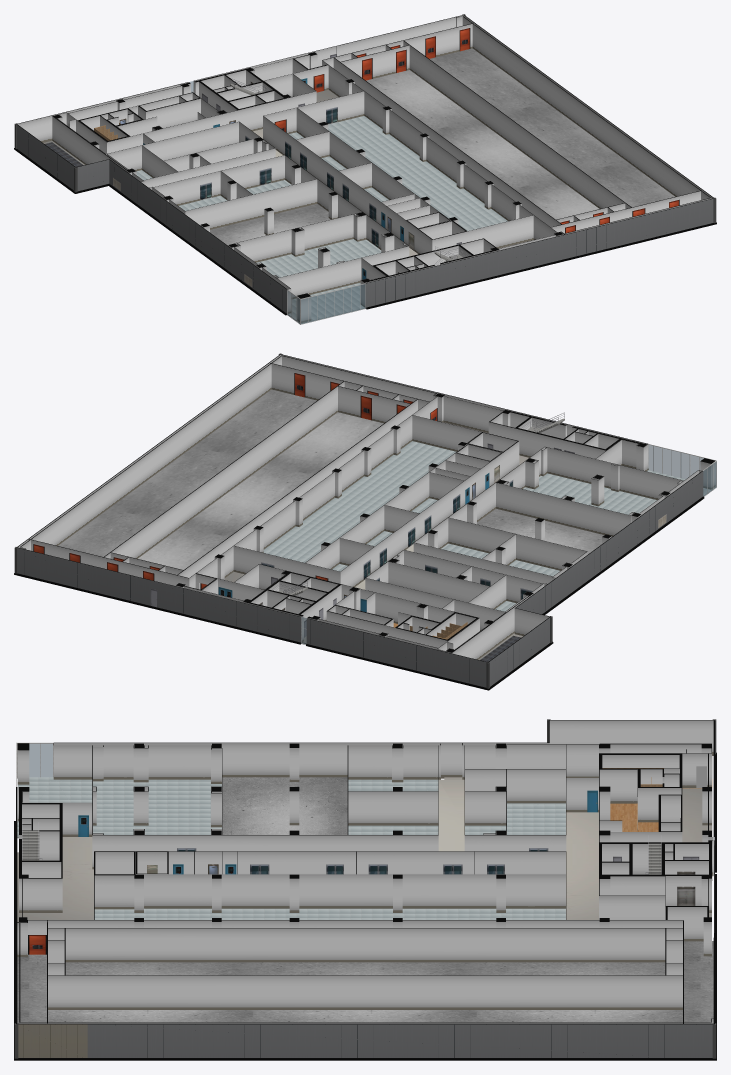
3 renders of one model, top to bottom at view 1: azimuth 30°, elevation 25°; view 2: azimuth 150°, elevation 25°; view 3: azimuth 270°, elevation 25°, orthographic. The views are drawn at different scales.
Parts seen in each view (by area): view 1: Group591, Line1225, Line1218, 3문, 3유리, Railing070; view 2: Group591, Line1225, Line1218, 3문, 3유리, Railing070; view 3: Group591, Line1218, Line1225, Line782, 3문, Railing070, 3유리, Line1223.
Part boxes in pixels (<box>): Group591: <box>14,14,716,322</box>; Line1225: <box>366,48,674,219</box>; Line1218: <box>136,116,507,323</box>; 3문: <box>119,28,679,279</box>; 3유리: <box>188,81,365,324</box>; Railing070: <box>230,78,468,265</box>; Group591: <box>14,353,715,690</box>; Line1225: <box>58,389,383,569</box>; Line1218: <box>263,441,715,611</box>; 3문: <box>33,373,574,637</box>; 3유리: <box>301,444,716,644</box>; Railing070: <box>271,412,564,597</box>; Group591: <box>14,719,716,1060</box>; Line1218: <box>17,777,565,919</box>; Line1225: <box>17,941,713,1023</box>; Line782: <box>17,755,712,922</box>; 3문: <box>28,790,699,954</box>; Railing070: <box>22,822,661,874</box>; 3유리: <box>16,742,714,875</box>; Line1223: <box>610,803,658,831</box>.
Size of the model in its own units: 67.25 by 5.44 by 65.25.
27 materials, 23 textured.
